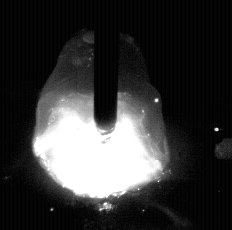arame: (95, 0, 119, 135)
poca: (32, 0, 167, 230)
